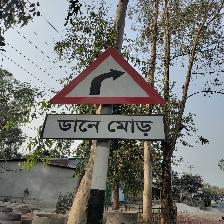Right-turn: (43, 46, 169, 142)
